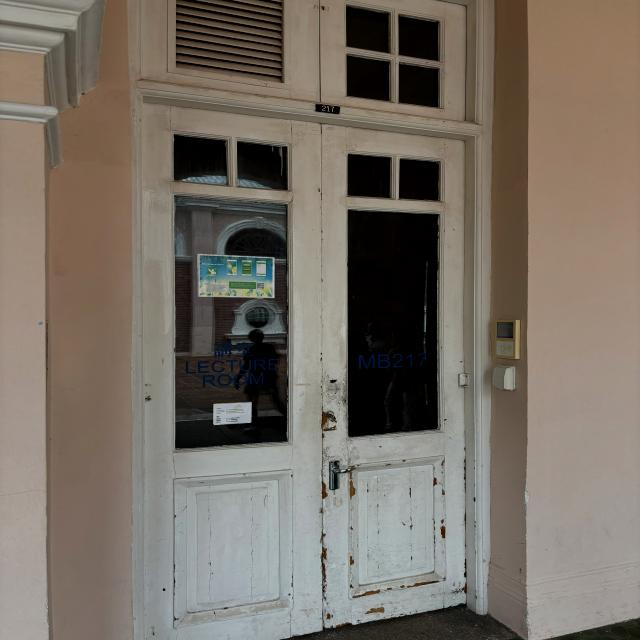MB217_roomNumber: (309, 101, 346, 118)
MB217_wordsOnWindow: (355, 349, 429, 373)
